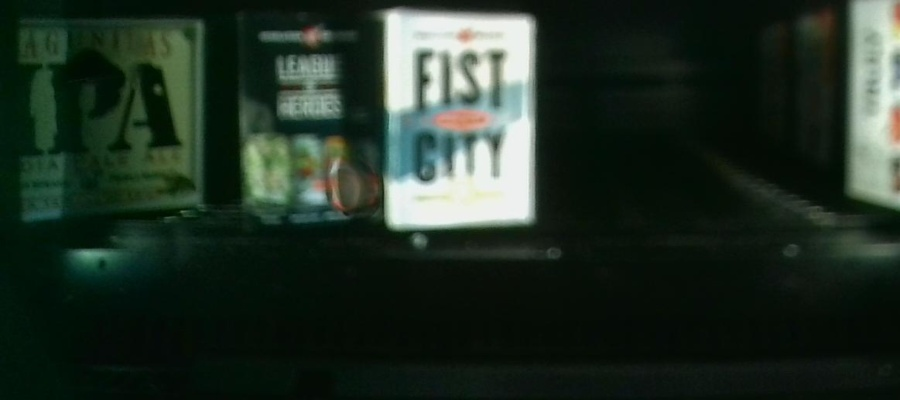bottle: (1, 15, 205, 217), (231, 11, 385, 221), (390, 9, 535, 228)
